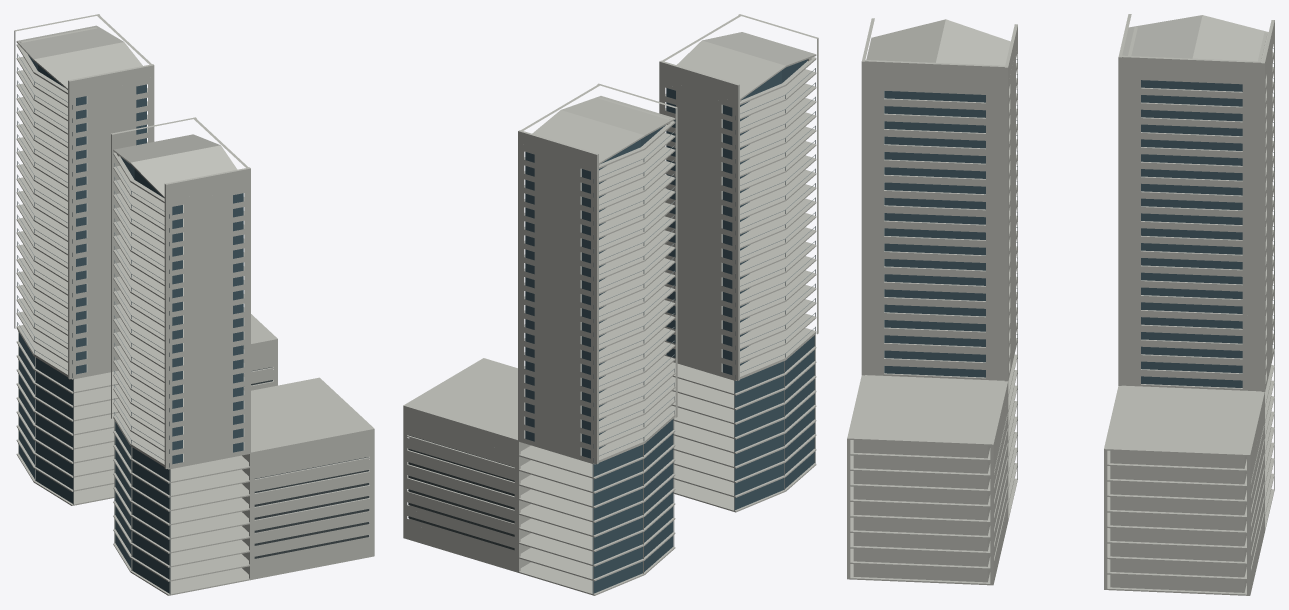
The model's file is torres-paseo-colon-far.glb.
3 views of the same model, side by side, from view 1: azimuth 30°, elevation 25°; view 2: azimuth 150°, elevation 25°; view 3: azimuth 270°, elevation 25° (orthographic). The views are drawn at different scales.
Visible parts, largest first — view 1: torres-paseo-colon-0-stone, torres-paseo-colon-0-glass, torres-paseo-colon-0-rail, torres-paseo-colon-0-shadow, torres-paseo-colon-0-trim, torres-paseo-colon-0-metal; view 2: torres-paseo-colon-0-stone, torres-paseo-colon-0-glass, torres-paseo-colon-0-rail, torres-paseo-colon-0-shadow, torres-paseo-colon-0-trim, torres-paseo-colon-0-metal; view 3: torres-paseo-colon-0-stone, torres-paseo-colon-0-glass.
Part boxes in pixels (x1,y1,x2,y2): torres-paseo-colon-0-stone: (14, 14, 374, 595); torres-paseo-colon-0-glass: (19, 55, 243, 593); torres-paseo-colon-0-rail: (17, 54, 164, 460); torres-paseo-colon-0-shadow: (251, 367, 369, 558); torres-paseo-colon-0-trim: (18, 331, 170, 594); torres-paseo-colon-0-metal: (17, 53, 169, 467); torres-paseo-colon-0-stone: (403, 14, 818, 595); torres-paseo-colon-0-glass: (525, 59, 814, 593); torres-paseo-colon-0-rail: (599, 68, 815, 456); torres-paseo-colon-0-shadow: (408, 435, 514, 550); torres-paseo-colon-0-trim: (593, 334, 815, 594); torres-paseo-colon-0-metal: (593, 68, 815, 462); torres-paseo-colon-0-stone: (847, 14, 1274, 595); torres-paseo-colon-0-glass: (884, 80, 1242, 387).
Size of the model in its own units: 57.55 by 101 by 83.73.
